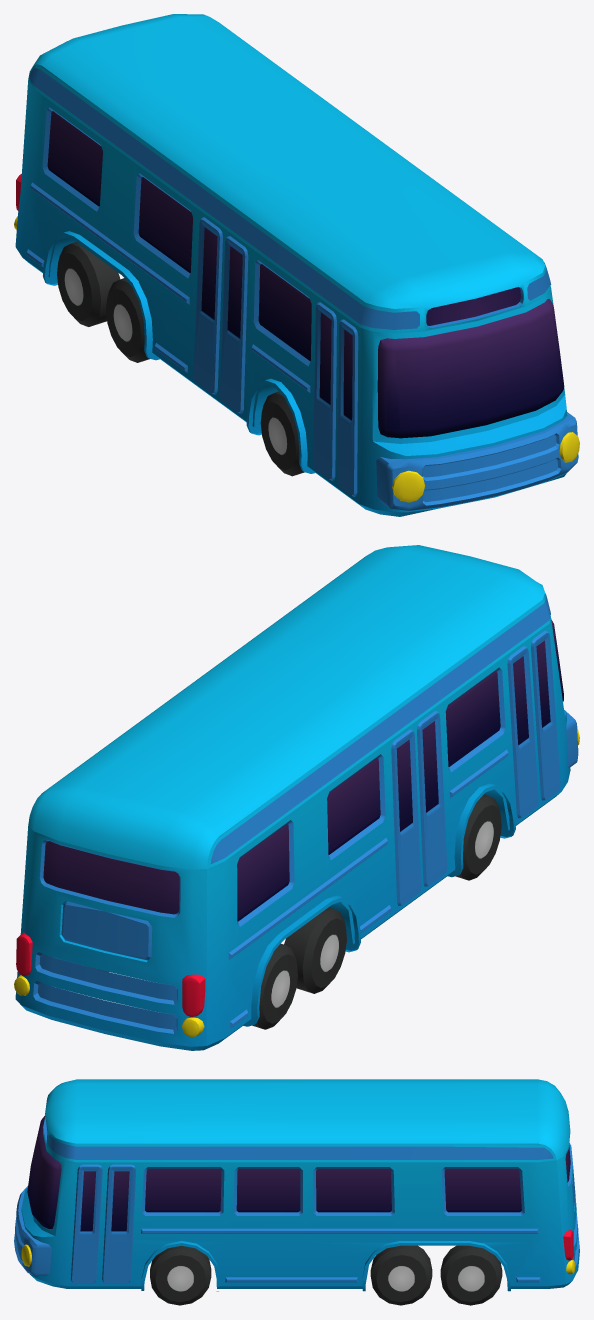
The model's file is TenSeater.fbx.
3 views of the same model, one above another, from view 1: azimuth 30°, elevation 25°; view 2: azimuth 150°, elevation 25°; view 3: azimuth 270°, elevation 25° (orthographic). The views are drawn at different scales.
Visible parts, largest first — view 1: TenSeater_Body, TenSeater_Removable; view 2: TenSeater_Body, TenSeater_Removable; view 3: TenSeater_Body, TenSeater_Removable.
Boxes of the visible parts, x1,y1,x2,y2 form: TenSeater_Body: (14,80,579,516); TenSeater_Removable: (28,14,551,333); TenSeater_Body: (14,618,579,1050); TenSeater_Removable: (28,545,550,869); TenSeater_Body: (14,1115,579,1305); TenSeater_Removable: (43,1079,570,1162).
Size of the model in its own units: 642 by 680 by 2054.
1 material, 1 textured.
